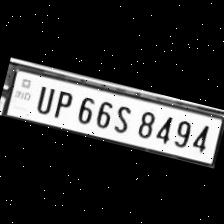4: (187, 118, 214, 152), (152, 109, 176, 143)
6: (71, 90, 98, 124), (92, 95, 116, 129)
8: (132, 106, 160, 140)
9: (168, 113, 194, 148)
P: (48, 84, 76, 119)
S: (108, 99, 135, 134)
U: (30, 80, 58, 114)
